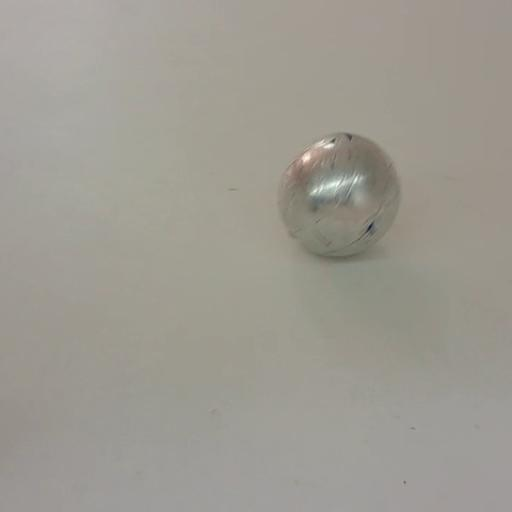alive: (273, 128, 403, 258)
